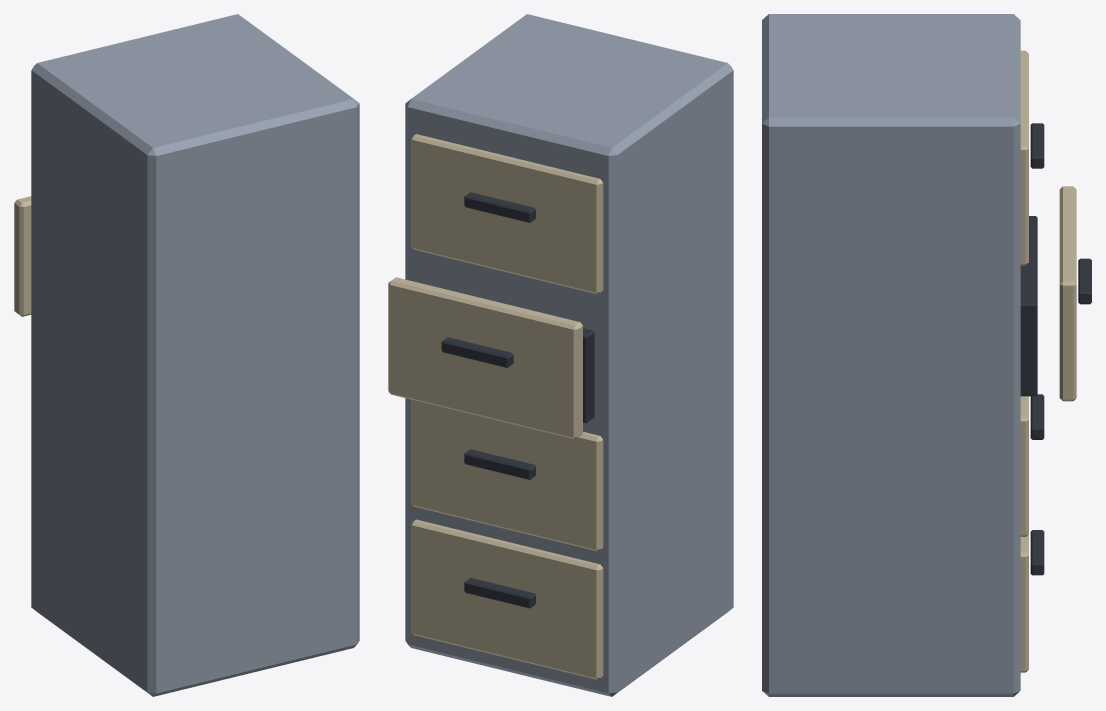
File: prop_file_cabinet.obj
3 renders of one model, left to right at view 1: azimuth 30°, elevation 25°; view 2: azimuth 150°, elevation 25°; view 3: azimuth 270°, elevation 25°, orthographic. The views are drawn at different scales.
Visible parts, largest first — view 1: Shell, Drawer_2; view 2: Shell, Drawer_2, Drawer_0, Drawer_3, Drawer_1, Handle_2, Handle_0, Handle_1, Handle_3, OpenBox; view 3: Shell, Drawer_2, OpenBox, Drawer_3, Drawer_1, Drawer_0, Handle_0, Handle_3, Handle_1, Handle_2.
Part boxes in pixels (x1,y1,x2,y2): Shell: (31, 14, 359, 696); Drawer_2: (14, 196, 31, 316); Shell: (405, 14, 733, 696); Drawer_2: (388, 277, 582, 439); Drawer_0: (411, 519, 603, 679); Drawer_3: (411, 134, 603, 294); Drawer_1: (411, 399, 603, 551); Handle_2: (441, 337, 513, 367); Handle_0: (464, 577, 535, 608); Handle_1: (464, 449, 535, 479); Handle_3: (464, 192, 535, 222); OpenBox: (583, 328, 594, 423); Shell: (762, 14, 1020, 696); Drawer_2: (1059, 186, 1076, 401); OpenBox: (1020, 216, 1037, 396); Drawer_3: (1020, 50, 1028, 265); Drawer_1: (1020, 396, 1028, 536); Drawer_0: (1020, 534, 1028, 672); Handle_0: (1030, 530, 1044, 575); Handle_3: (1030, 123, 1044, 168); Handle_1: (1030, 394, 1044, 439); Handle_2: (1078, 258, 1091, 304).
Size of the model in its own units: 0.76 by 1.88 by 0.97.
